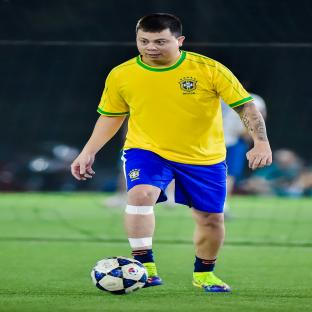Human: (72, 14, 272, 292)
